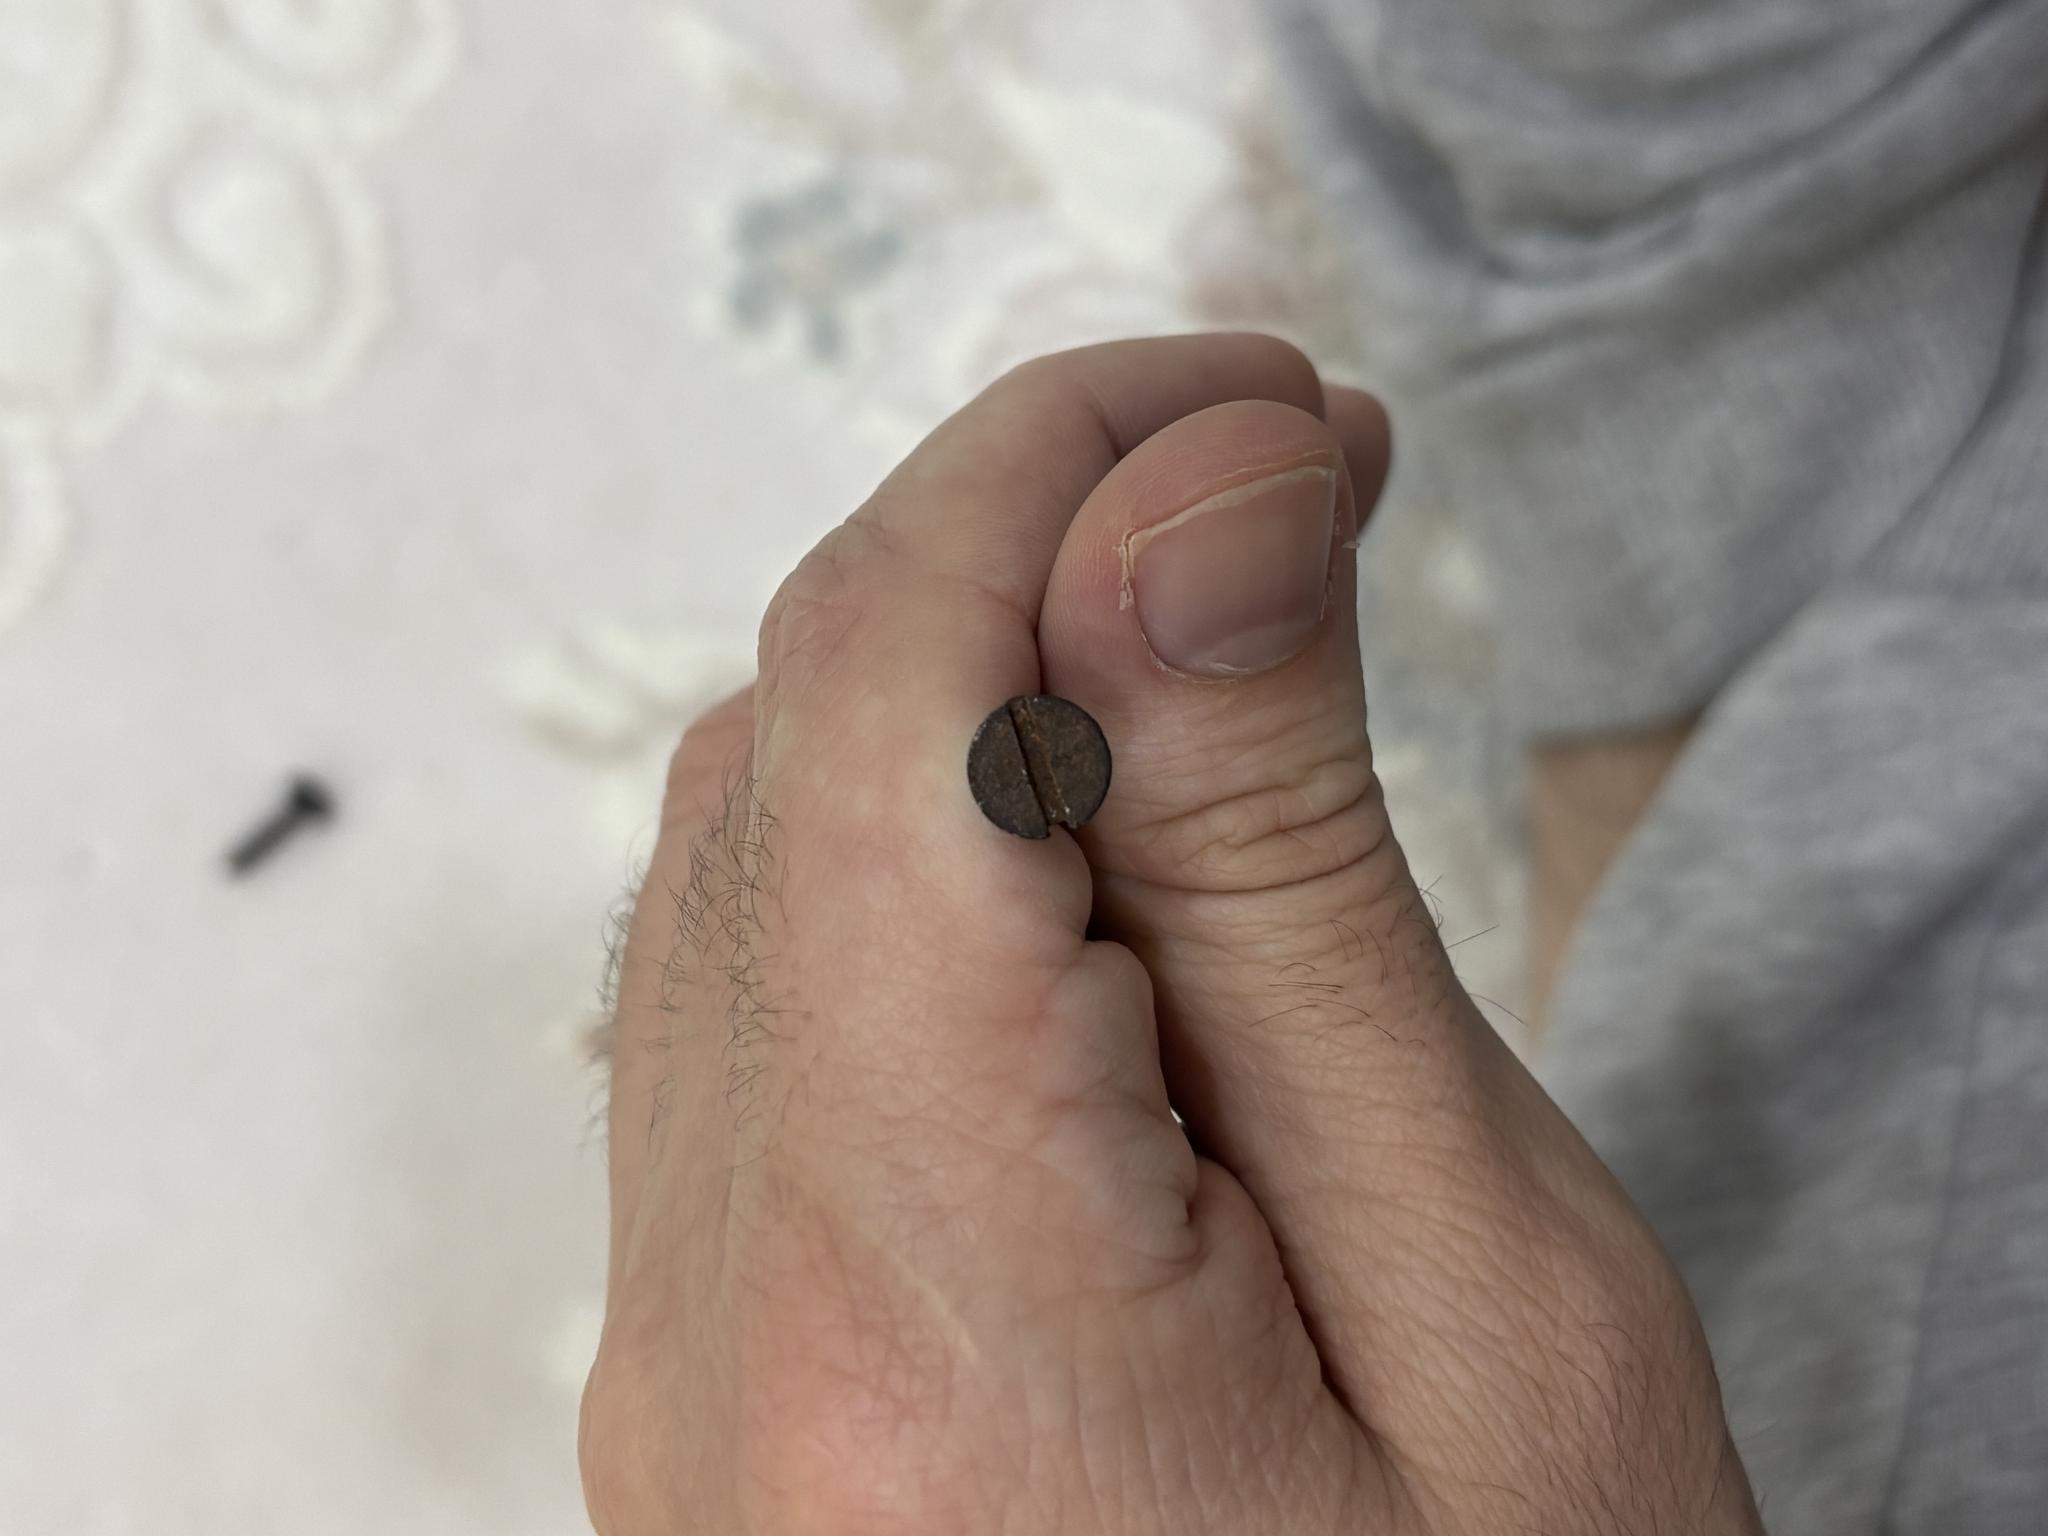SL: (697, 966, 840, 1113)
